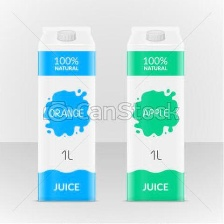carton: (29, 18, 109, 207), (121, 23, 193, 205)
